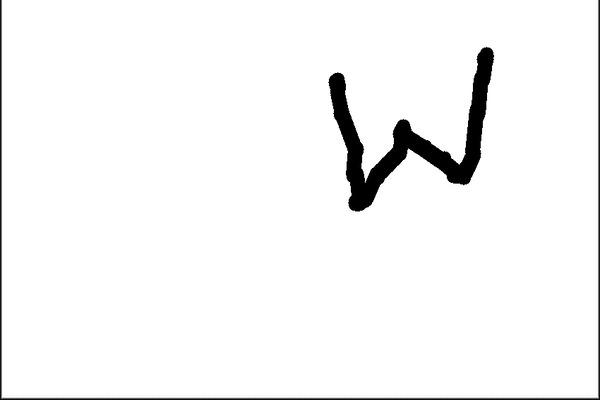w: (299, 33, 505, 221)
